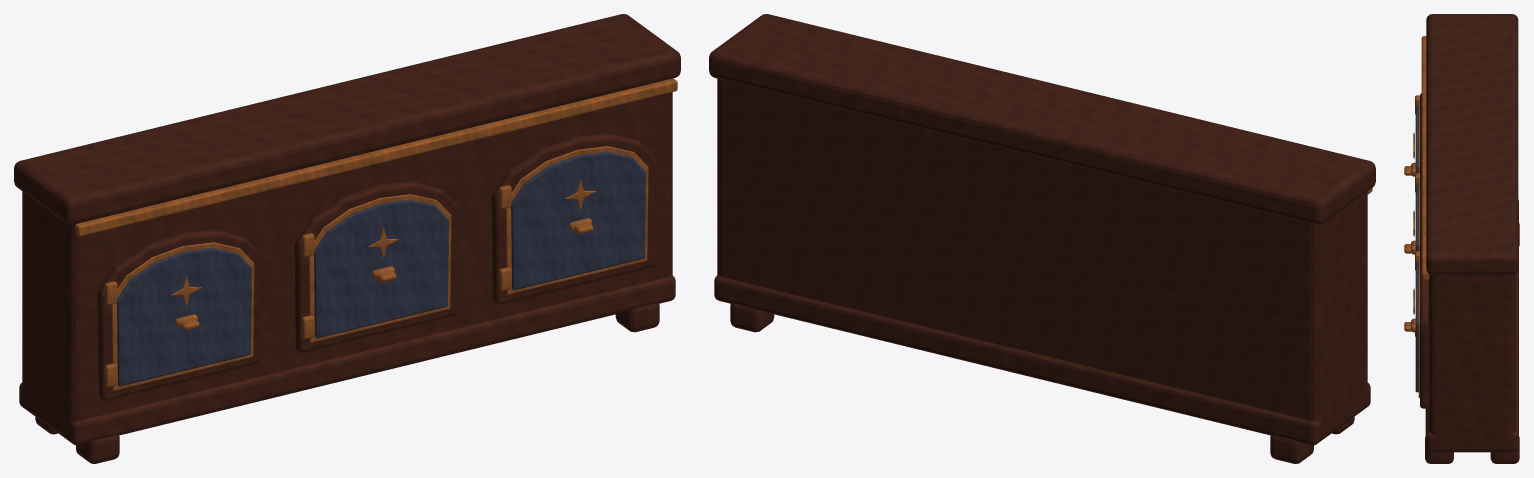
The model's file is workshop-cabinet.glb.
The picture shows the model from 3 angles, left to right: view 1: azimuth 30°, elevation 25°; view 2: azimuth 150°, elevation 25°; view 3: azimuth 270°, elevation 25°; orthographic projection. The views are drawn at different scales.
Visible parts, largest first — view 1: Cabinet body, Painted inset door, Top facing; view 2: Cabinet body; view 3: Cabinet body, Top facing, Painted inset door.
Part boxes in pixels (<box>): Cabinet body: <box>14,14,680,463</box>; Painted inset door: <box>117,151,645,386</box>; Top facing: <box>75,78,677,390</box>; Cabinet body: <box>709,14,1375,463</box>; Cabinet body: <box>1420,14,1519,463</box>; Top facing: <box>1404,36,1429,397</box>; Painted inset door: <box>1415,105,1418,392</box>.
Size of the model in its own units: 4.56 by 1.92 by 0.914.
Materials: 3 (3 with a texture image).
